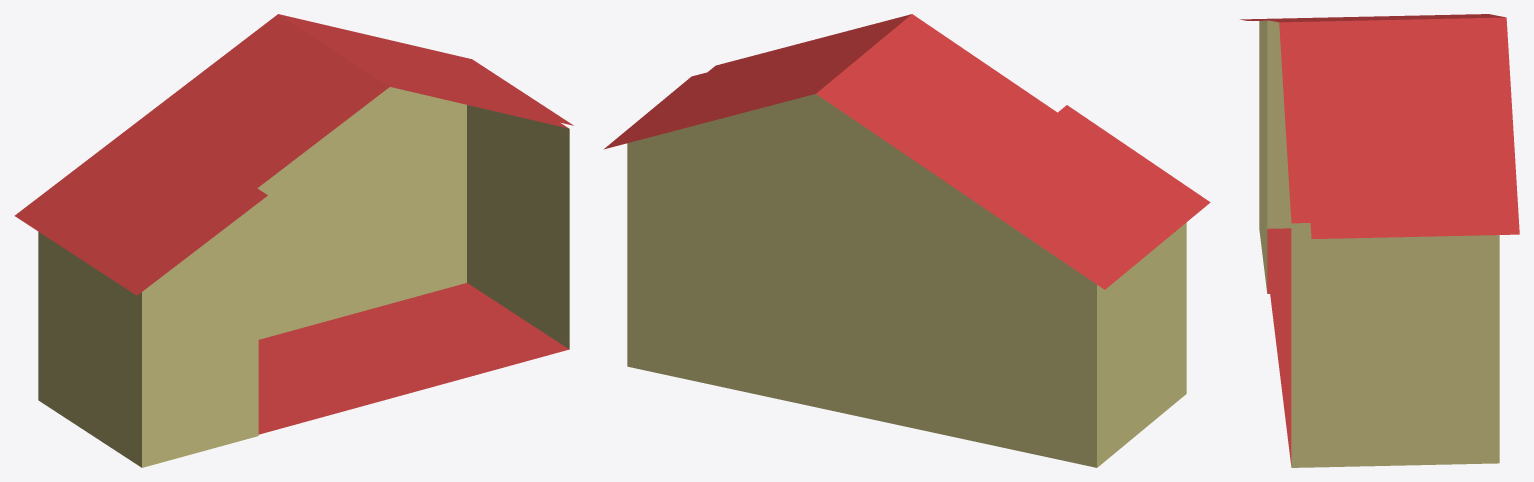
3 views of the same model, side by side, from view 1: azimuth 30°, elevation 25°; view 2: azimuth 150°, elevation 25°; view 3: azimuth 270°, elevation 25° (orthographic). The views are drawn at different scales.
Bounding box in the file's own units: 16.05 × 7.33 × 9.95.
